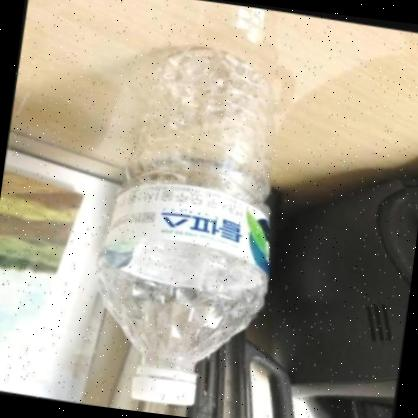bottle: (72, 30, 296, 416)
cap: (128, 364, 199, 408)
label: (96, 175, 276, 296)
